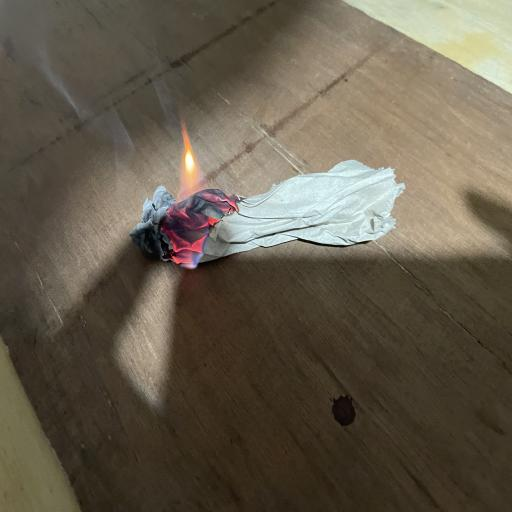fire: (162, 126, 246, 281), (158, 260, 222, 293)
